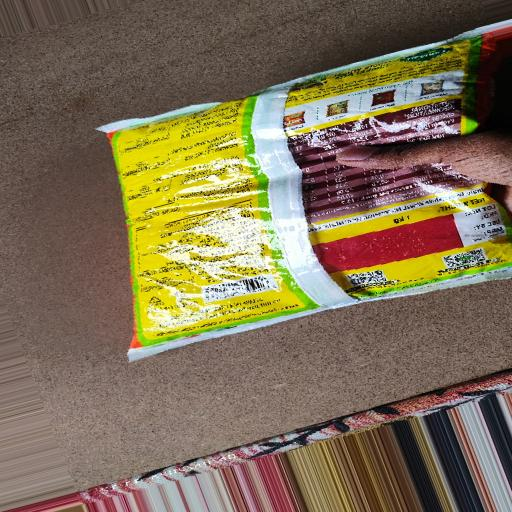Ganesh Atta: (66, 30, 512, 374)
